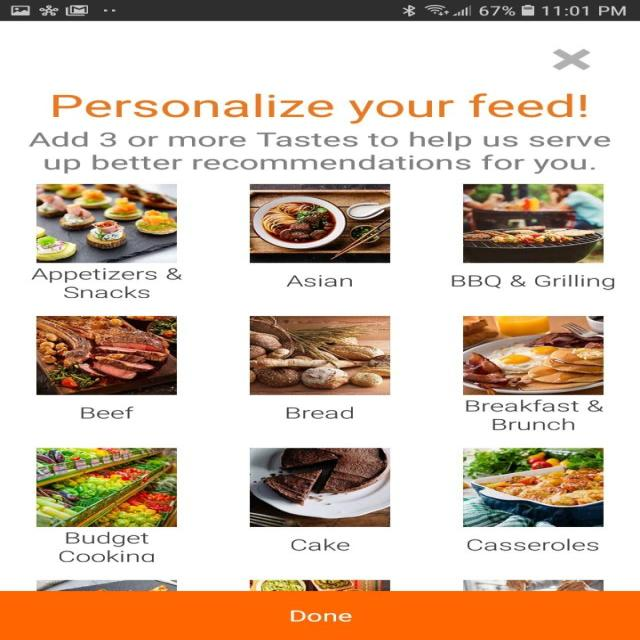Icon: (551, 49, 590, 70)
Image: (248, 315, 390, 395), (35, 448, 177, 528), (248, 448, 390, 528), (462, 448, 604, 528), (36, 315, 177, 395), (462, 315, 603, 395), (248, 184, 390, 263), (36, 184, 177, 263), (462, 184, 603, 263), (248, 580, 390, 590), (36, 580, 177, 590), (462, 580, 603, 590)
Text: (28, 131, 610, 174), (52, 93, 586, 124), (30, 268, 182, 298), (464, 399, 604, 430), (59, 531, 154, 562), (450, 274, 614, 290), (466, 538, 598, 551), (285, 406, 353, 419), (285, 274, 352, 287), (290, 538, 350, 551), (80, 405, 134, 419)
TextButton: (0, 590, 639, 640)
